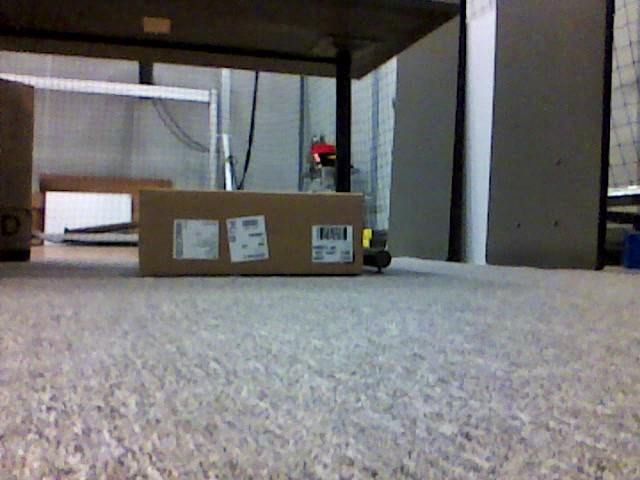box: (138, 191, 364, 277), (1, 79, 31, 260)
